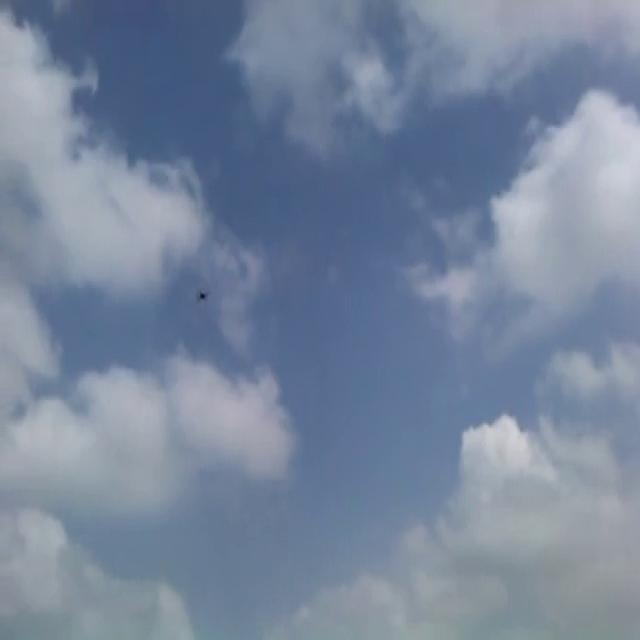drone: (193, 279, 210, 306)
